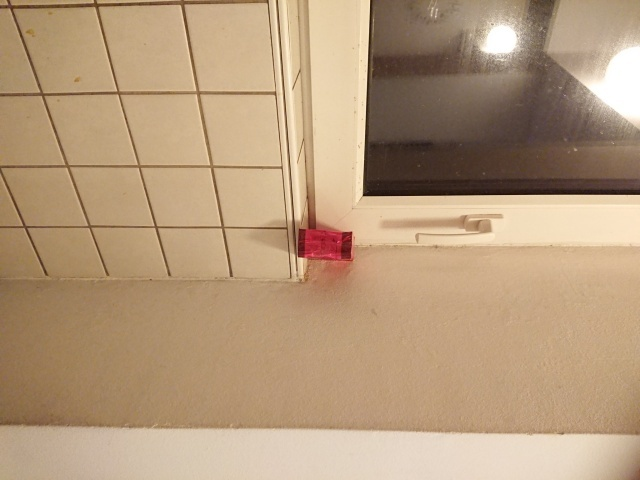Barcaffe Classic Original 225g: (296, 226, 358, 265)
